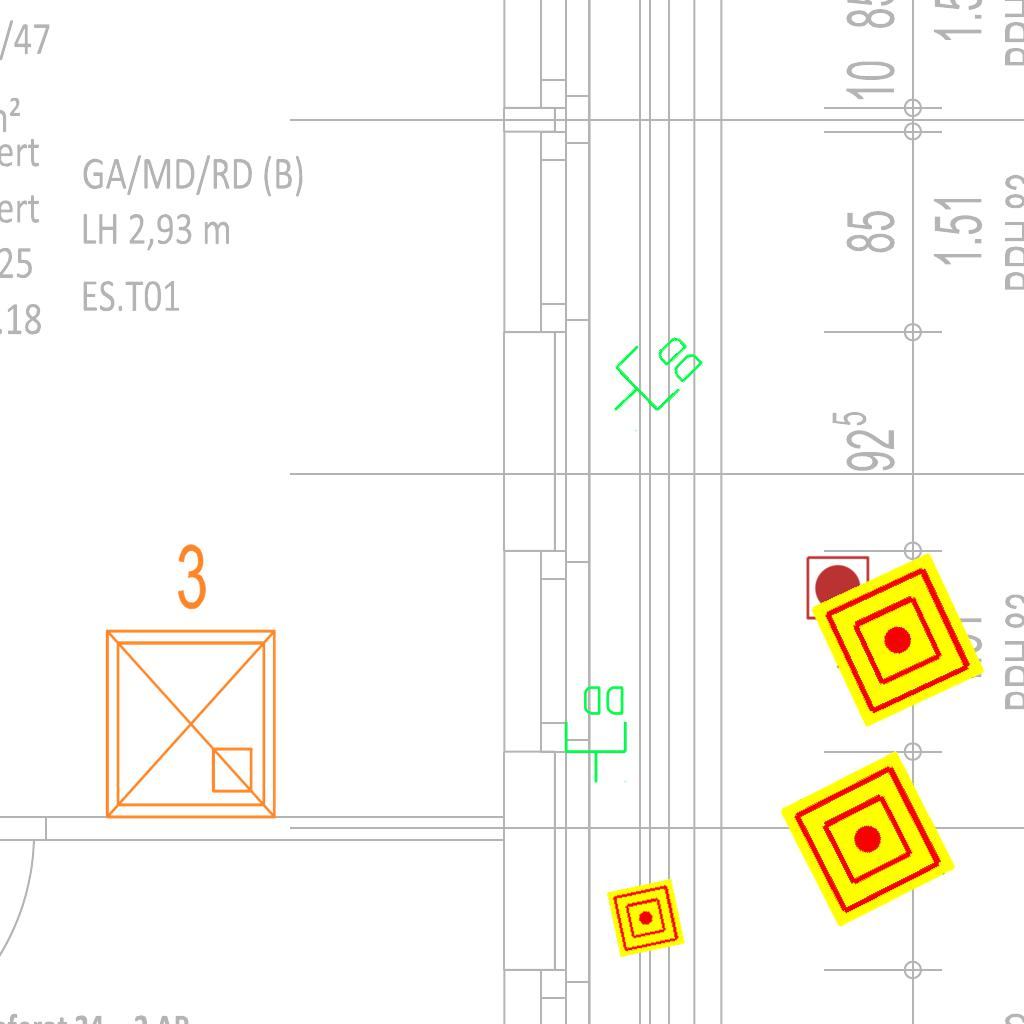Datenanschluss_zweifach: (589, 315, 712, 438), (562, 682, 631, 785)
Einbaudownlights_LED_Konferenzraeume: (83, 533, 291, 833)
NAM-Nichtautomatischer_Melder: (779, 750, 957, 928), (810, 552, 986, 728), (606, 878, 686, 958)
Zugtaster: (801, 552, 873, 674)
